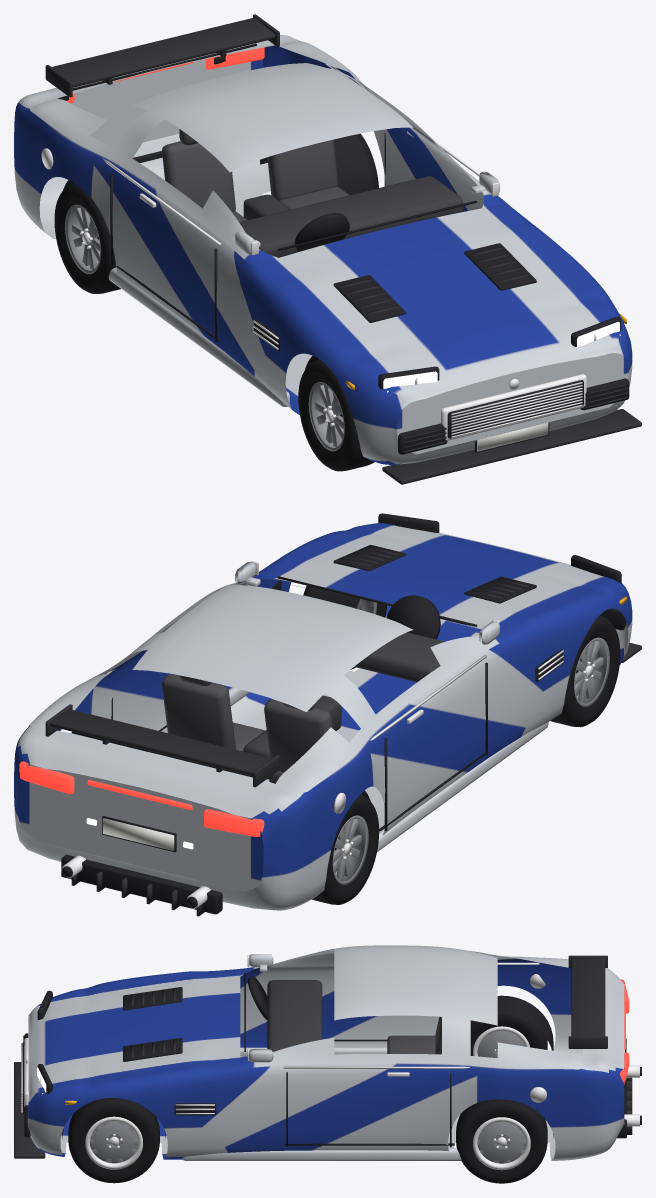
Rendered from car_01_gt.glb.
3 views of the same model, one above another, from view 1: azimuth 30°, elevation 25°; view 2: azimuth 150°, elevation 25°; view 3: azimuth 270°, elevation 25° (orthographic). The views are drawn at different scales.
Visible parts, largest first — view 1: Body, Details, Cabin, Interior, Wheel_FL_Mesh, Wheel_RL_Mesh; view 2: Body, Cabin, Details, Interior, Wheel_FL_Mesh, Wheel_RL_Mesh; view 3: Body, Cabin, Details, Wheel_FR_Mesh, Wheel_RR_Mesh, Interior, Wheel_RL_Mesh.
Boxes of the visible parts, <box> form: Body: <box>14,35,632,464</box>; Details: <box>41,14,641,484</box>; Cabin: <box>30,41,505,264</box>; Interior: <box>162,129,463,257</box>; Wheel_FL_Mesh: <box>298,359,374,471</box>; Wheel_RL_Mesh: <box>54,183,120,293</box>; Body: <box>14,522,632,910</box>; Cabin: <box>30,575,505,792</box>; Details: <box>19,513,641,916</box>; Interior: <box>162,595,444,783</box>; Wheel_FL_Mesh: <box>550,615,620,727</box>; Wheel_RL_Mesh: <box>312,794,379,904</box>; Body: <box>28,958,624,1160</box>; Cabin: <box>240,945,582,1069</box>; Details: <box>14,954,641,1160</box>; Wheel_FR_Mesh: <box>68,1098,159,1183</box>; Wheel_RR_Mesh: <box>456,1099,547,1183</box>; Interior: <box>248,976,441,1054</box>; Wheel_RL_Mesh: <box>470,1015,547,1058</box>.
Size of the model in its own units: 2.07 by 1.34 by 4.8.
16 materials, 1 textured.
